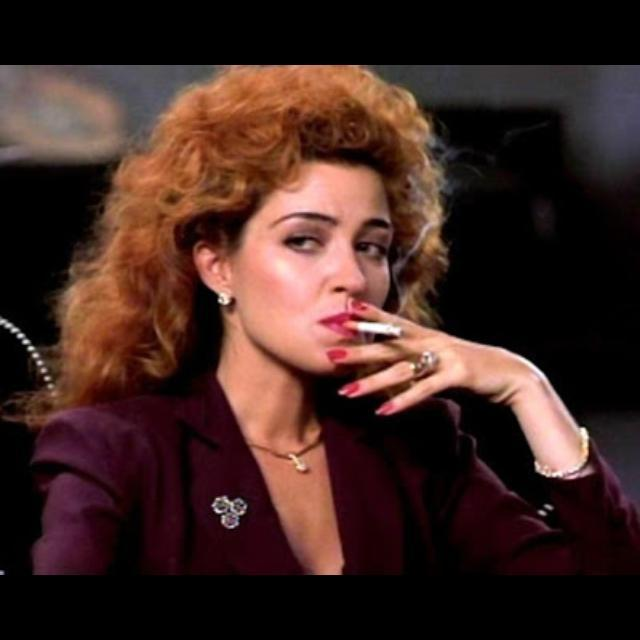rokok: (346, 320, 406, 338)
